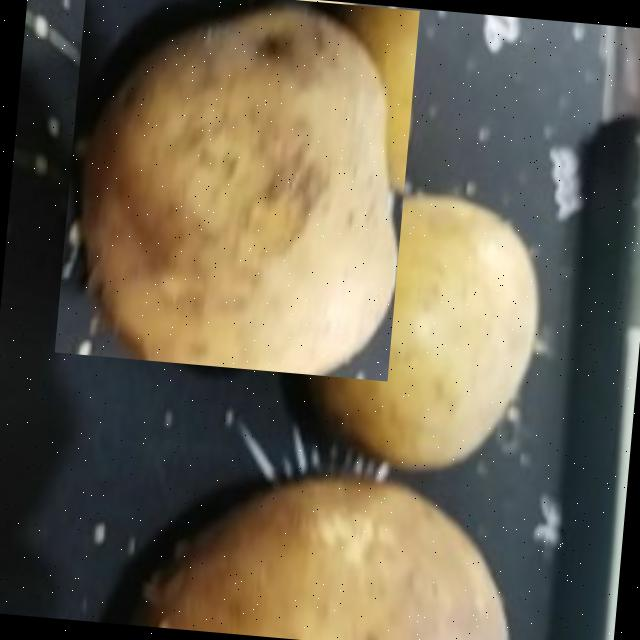Damaged potato: (54, 0, 419, 380), (86, 454, 533, 640)
Potato: (300, 186, 550, 484)
